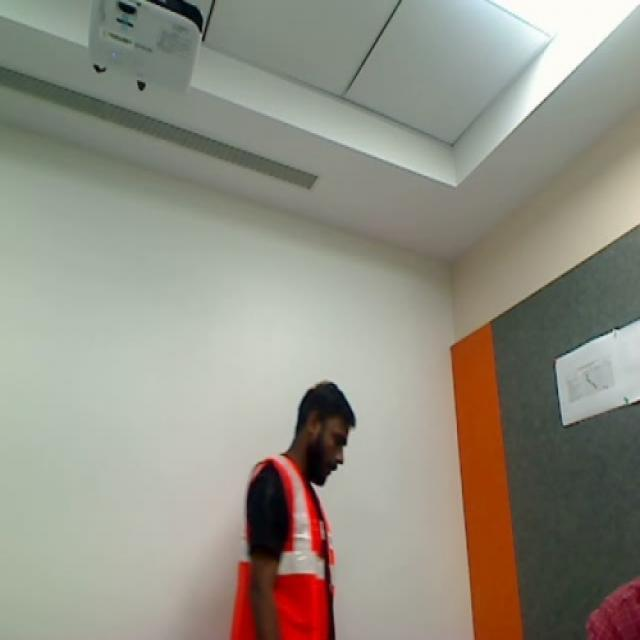safety_helmet: (234, 459, 343, 638)
